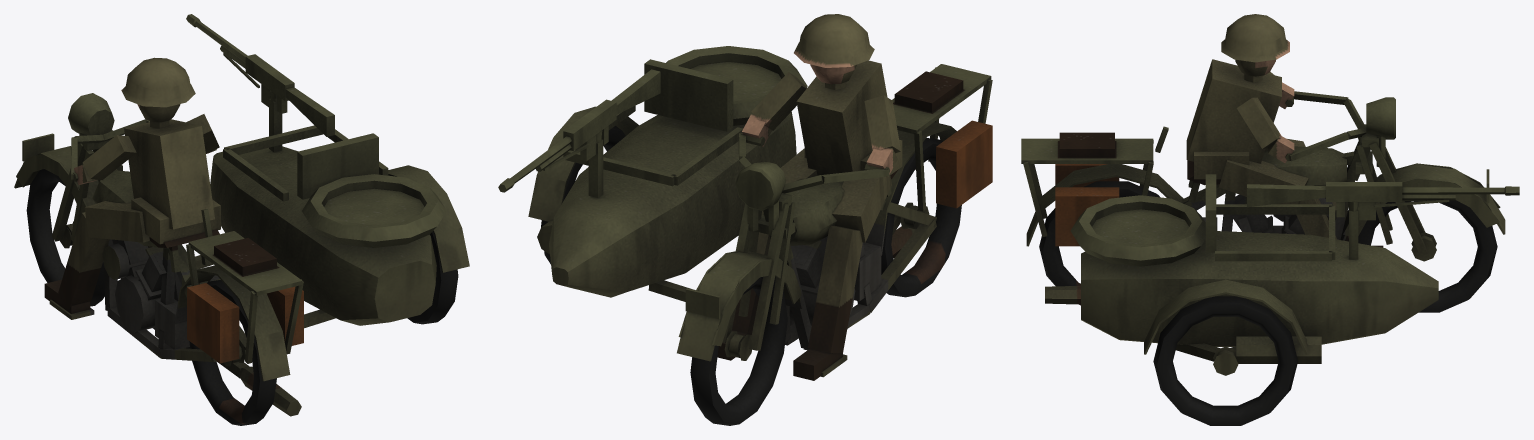
The model's file is SOKOL1000_MID.fbx.
The picture shows the model from 3 angles, left to right: view 1: azimuth 30°, elevation 25°; view 2: azimuth 150°, elevation 25°; view 3: azimuth 270°, elevation 25°; orthographic projection. The views are drawn at different scales.
Parts seen in each view (by area): view 1: Chassis, Motard, Axis, Roue_03, Roue_Droite_01, Axe_Canon_01, Roue_02, Canon_01; view 2: Chassis, Motard, Axis, Roue_Droite_01, Roue_03, Axe_Canon_01, Canon_01, Roue_02; view 3: Chassis, Motard, Axis, Roue_02, Axe_Canon_01, Roue_Droite_01, Roue_03, Canon_01.
Part boxes in pixels (x1,y1,x2,y2): Chassis: (49,98,469,416); Motard: (44,57,220,313); Axis: (14,93,149,262); Roue_03: (189,280,276,425); Roue_Droite_01: (26,169,104,306); Axe_Canon_01: (220,45,334,136); Roue_02: (407,231,458,324); Canon_01: (186,14,247,62); Chassis: (528,46,992,377); Motard: (717,14,902,380); Axis: (677,133,889,361); Roue_Droite_01: (690,277,787,425); Roue_03: (881,138,961,297); Axe_Canon_01: (536,69,660,171); Canon_01: (498,136,571,192); Roue_02: (541,126,625,264); Chassis: (1021,126,1438,363); Motard: (1186,14,1383,247); Axis: (1285,91,1505,256); Roue_02: (1153,296,1297,425); Axe_Canon_01: (1247,182,1455,220); Roue_Droite_01: (1358,200,1497,312); Roue_03: (1039,181,1159,305); Canon_01: (1402,186,1519,195).
Bounding box in the file's own units: 169 × 234 × 152.
Materials: 1 (1 with a texture image).
